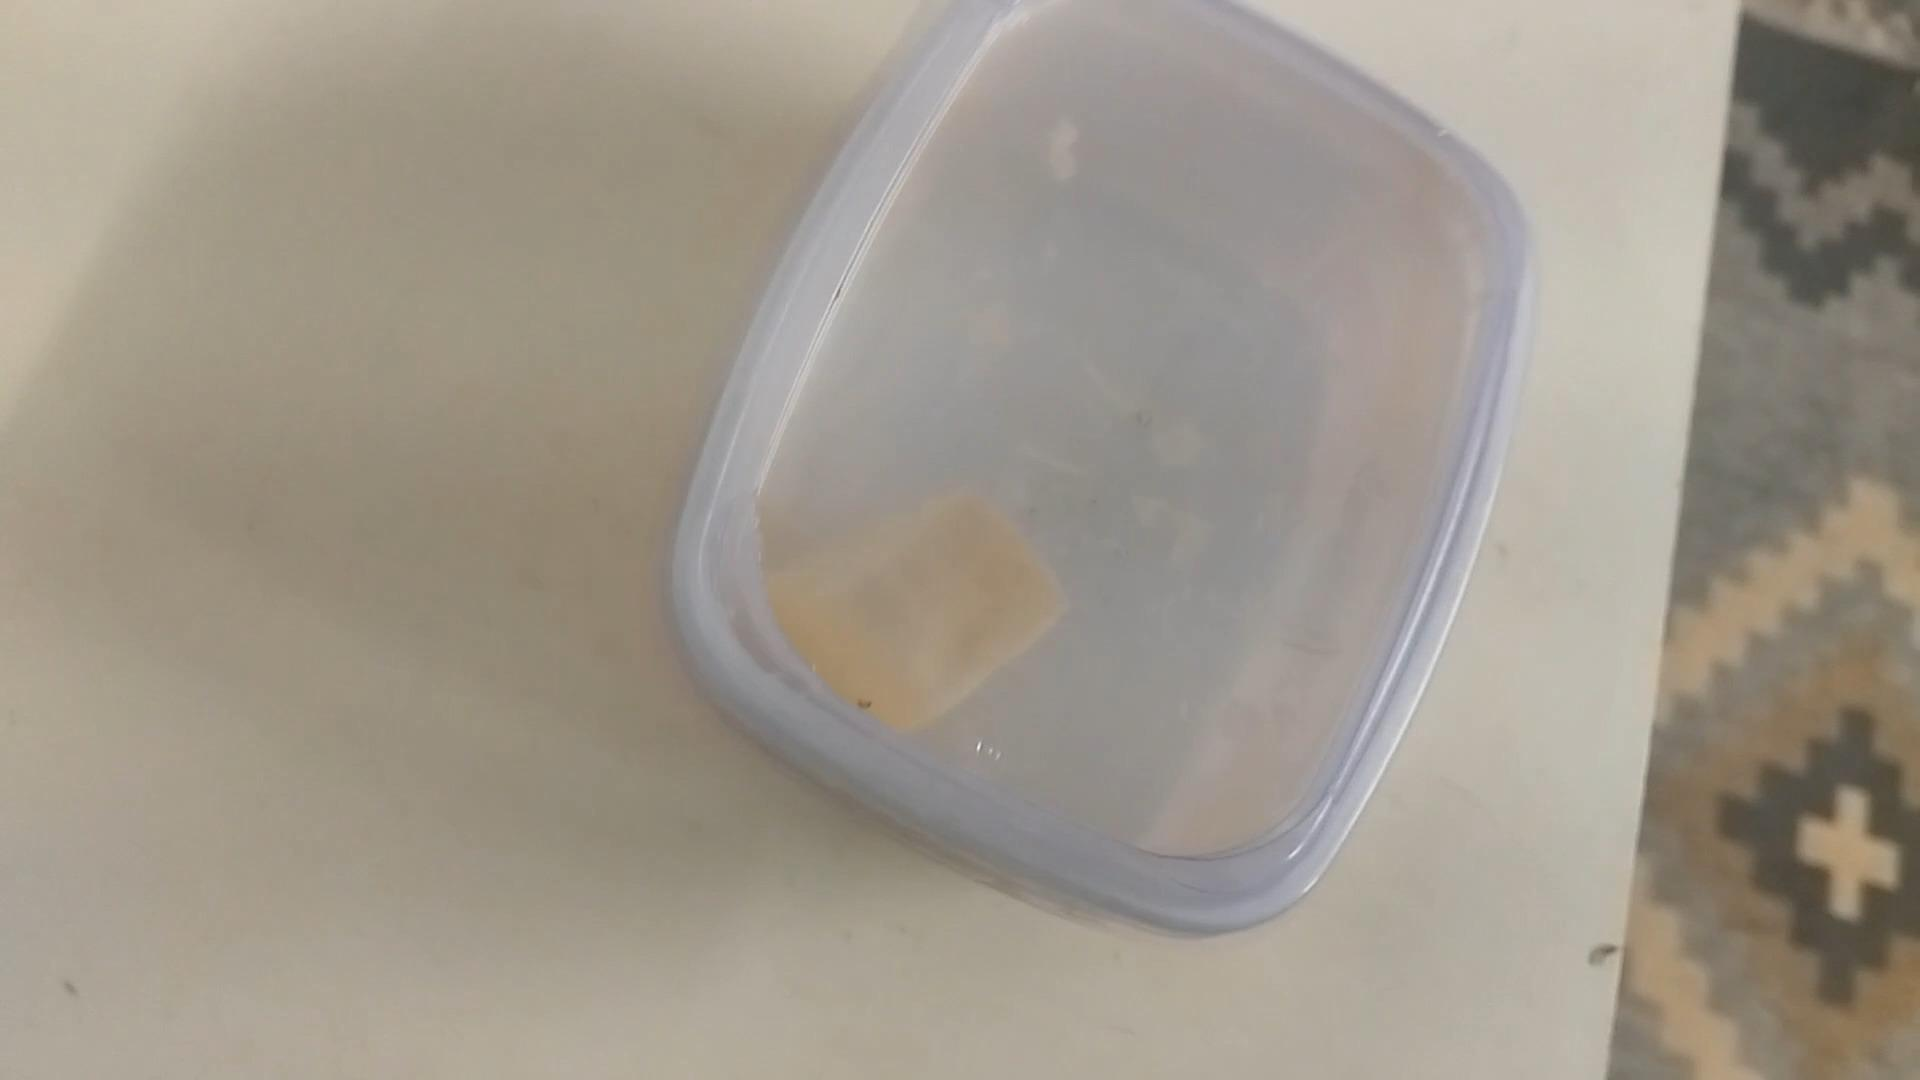butter: (663, 0, 1524, 938)
